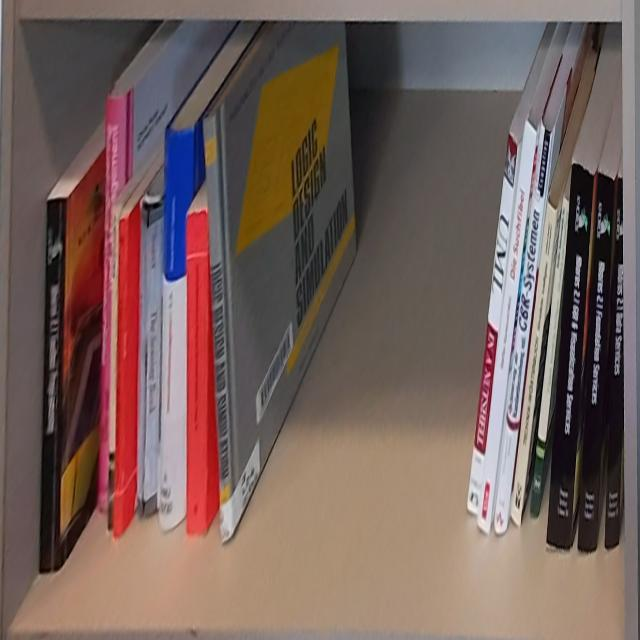Book Spine: (476, 121, 537, 537), (494, 121, 553, 535), (465, 132, 517, 518), (546, 163, 594, 550), (510, 202, 557, 529), (158, 127, 194, 533), (579, 171, 614, 553), (203, 114, 234, 543), (529, 197, 570, 518), (97, 96, 126, 511), (38, 197, 67, 575), (186, 211, 208, 534), (143, 203, 164, 522), (606, 176, 623, 549), (107, 207, 123, 530), (113, 218, 128, 538), (134, 207, 148, 522)
